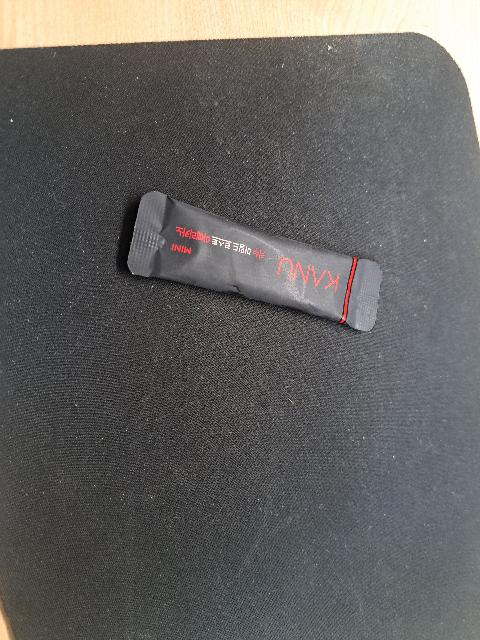KANU: (118, 183, 390, 336)
